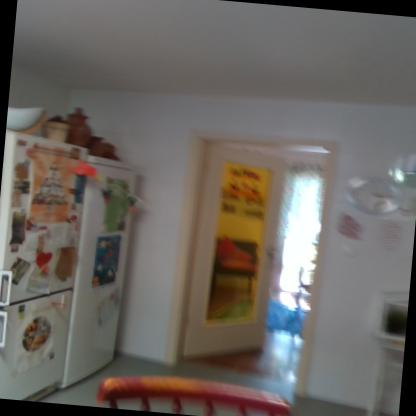semi: (162, 118, 348, 395)
